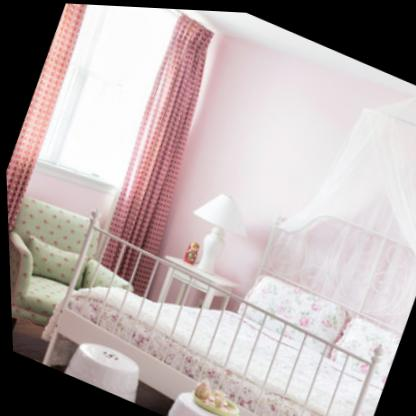Curtains: (96, 11, 214, 293), (5, 3, 88, 239)
